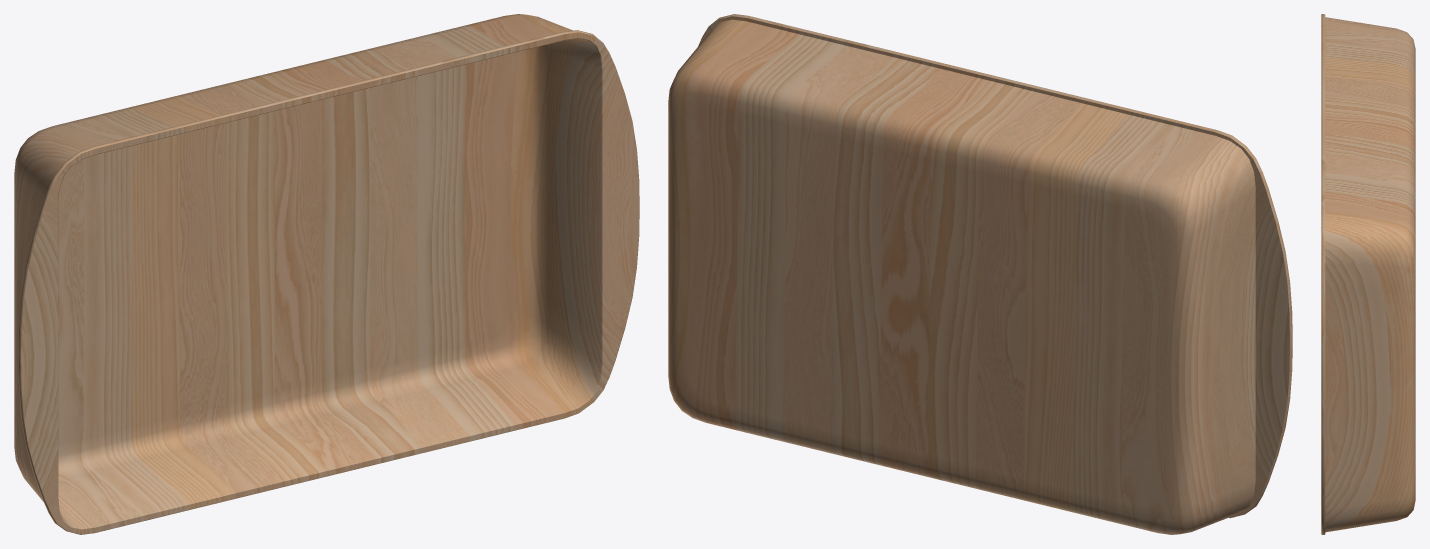
The picture shows the model from 3 angles, left to right: view 1: azimuth 30°, elevation 25°; view 2: azimuth 150°, elevation 25°; view 3: azimuth 270°, elevation 25°; orthographic projection. The views are drawn at different scales.
Size of the model in its own units: 1 by 0.5943 by 0.1586.
